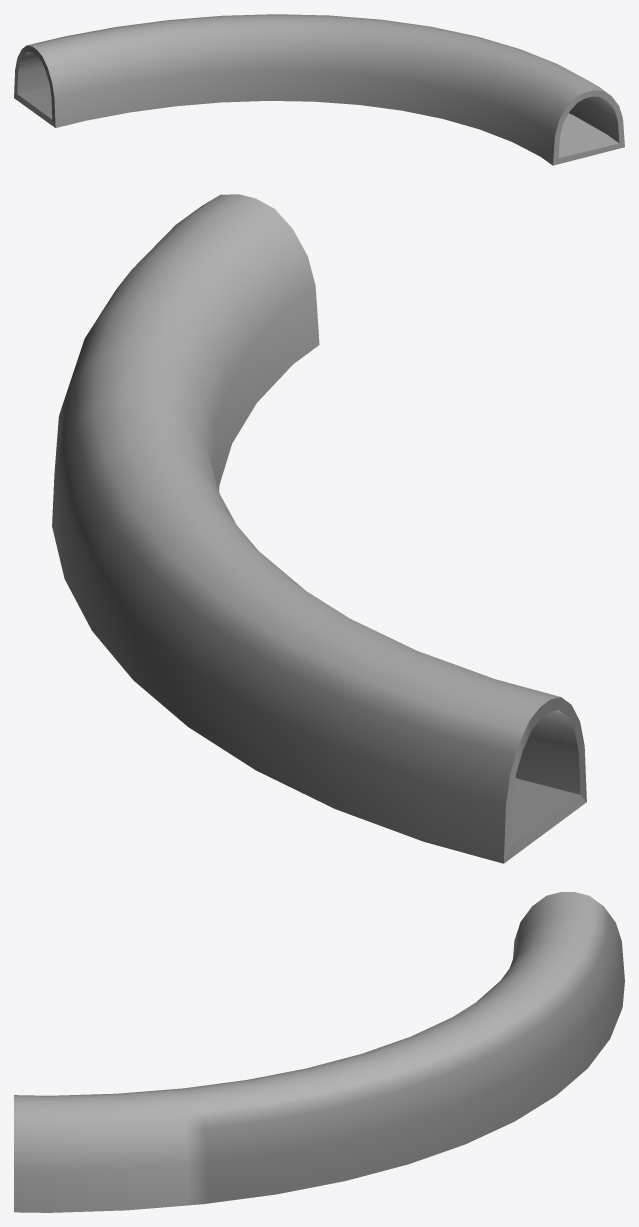
Rendered from floor_Tunnel.fbx.
3 renders of one model, top to bottom at view 1: azimuth 30°, elevation 25°; view 2: azimuth 150°, elevation 25°; view 3: azimuth 270°, elevation 25°, orthographic. The views are drawn at different scales.
Parts seen in each view (by area): view 1: floor_Tunnel; view 2: floor_Tunnel; view 3: floor_Tunnel.
Boxes of the visible parts, x1,y1,x2,y2 form: floor_Tunnel: (14,14,624,165); floor_Tunnel: (52,194,586,863); floor_Tunnel: (14,892,624,1212).
Size of the model in its own units: 5151 by 1071 by 5139.
